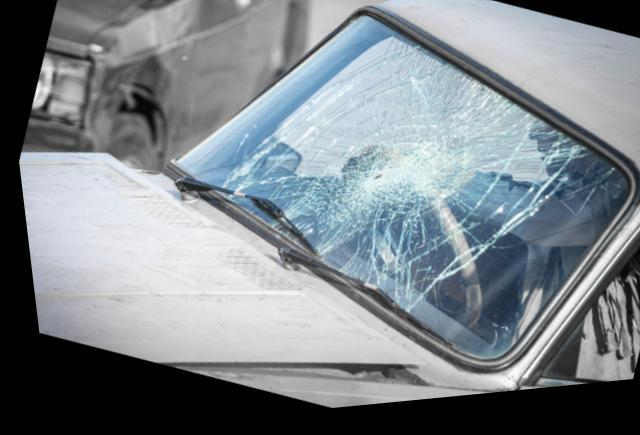glass shatter: (166, 20, 624, 370)
